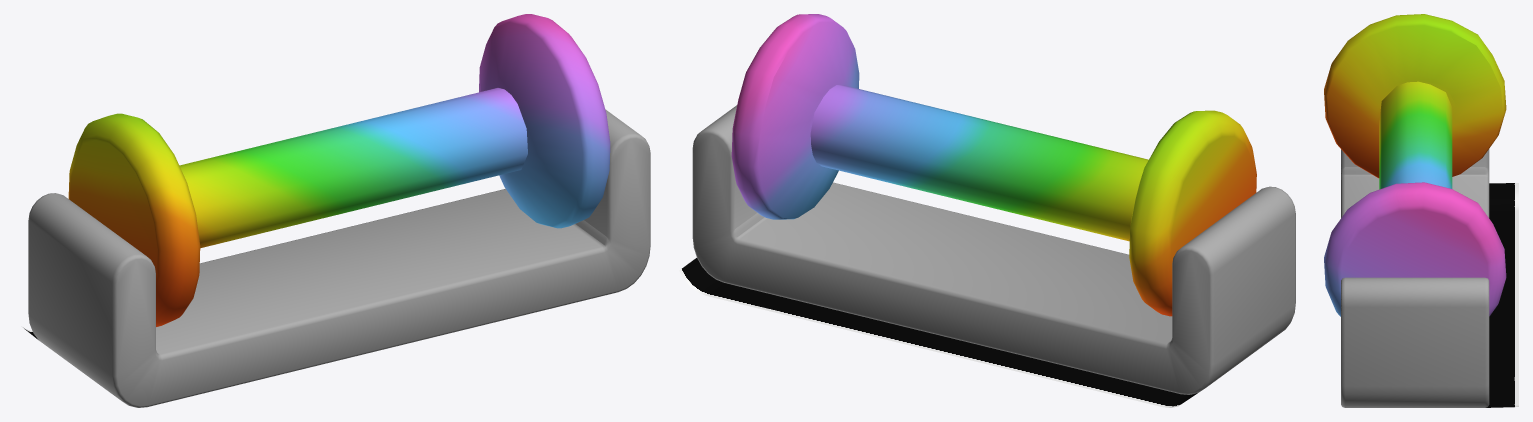
File: Thanhngang.fbx
3 views of the same model, side by side, from view 1: azimuth 30°, elevation 25°; view 2: azimuth 150°, elevation 25°; view 3: azimuth 270°, elevation 25° (orthographic). The views are drawn at different scales.
Visible parts, largest first — view 1: de, thanhngang; view 2: de, thanhngang, shadow; view 3: thanhngang, de, shadow.
Boxes of the visible parts, x1,y1,x2,y2 form: de: [28, 109, 650, 407]; thanhngang: [68, 14, 610, 326]; de: [692, 105, 1295, 394]; thanhngang: [731, 14, 1256, 316]; shadow: [679, 258, 1197, 407]; thanhngang: [1324, 14, 1506, 316]; de: [1341, 149, 1489, 407]; shadow: [1486, 183, 1518, 407].
Size of the model in its own units: 219 by 95.99 by 81.71.
